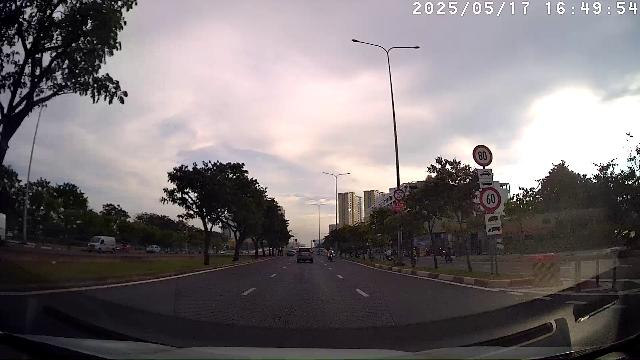127-toc-do-toi-da-60: (479, 187, 501, 212)
127-toc-do-toi-da-80: (472, 144, 493, 167)
